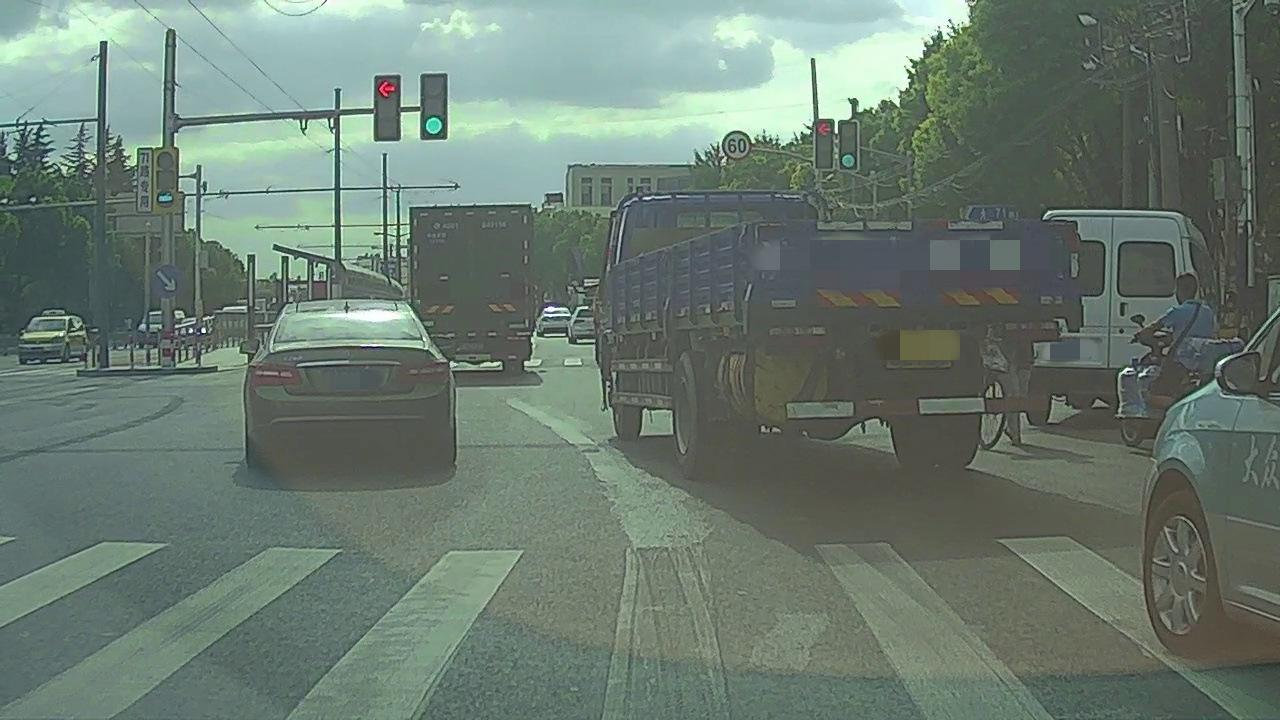traffic_light: (422, 73, 447, 140), (376, 76, 401, 141), (841, 120, 858, 170), (816, 121, 834, 167)
